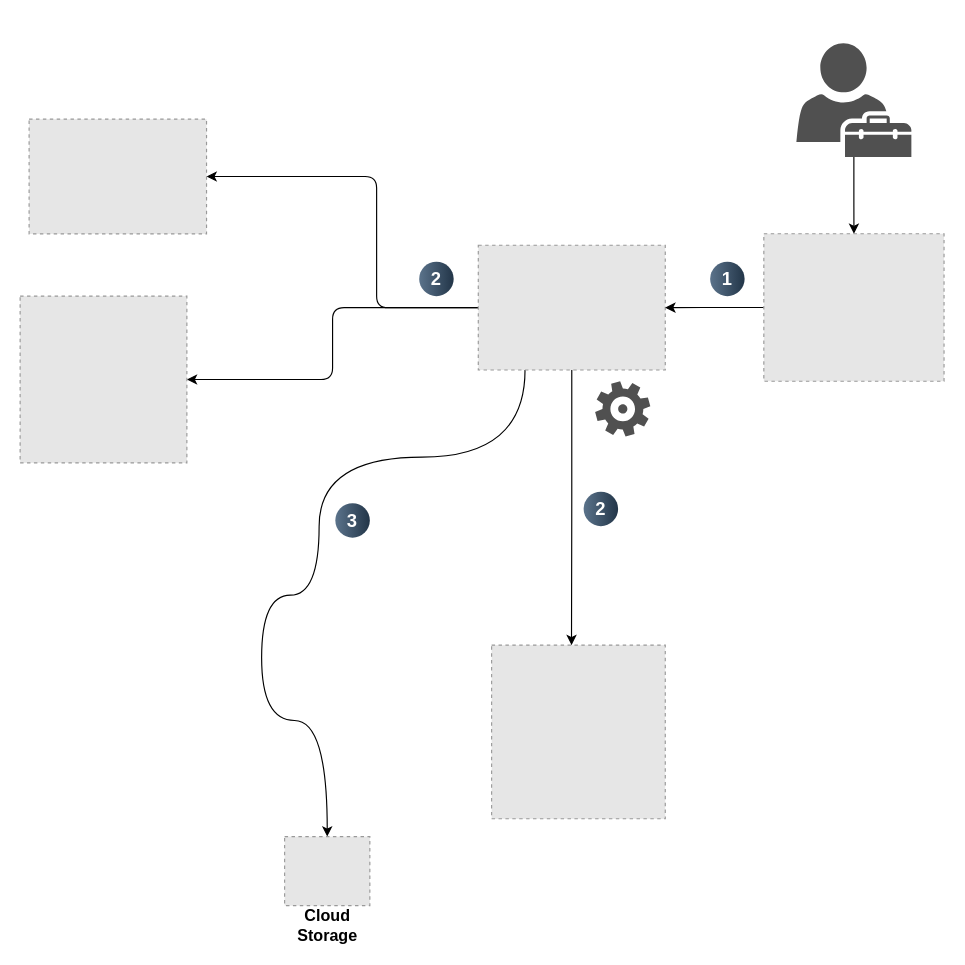
The diagram is 965 pixels wide and 965 high, and some of its shapes have lost their labels. Grey dashed boxes stand in for pictures. Each missing label, with the box of its shape:
CONFIG: (595, 381, 650, 436)
OPS TEAM: (796, 43, 911, 156)
